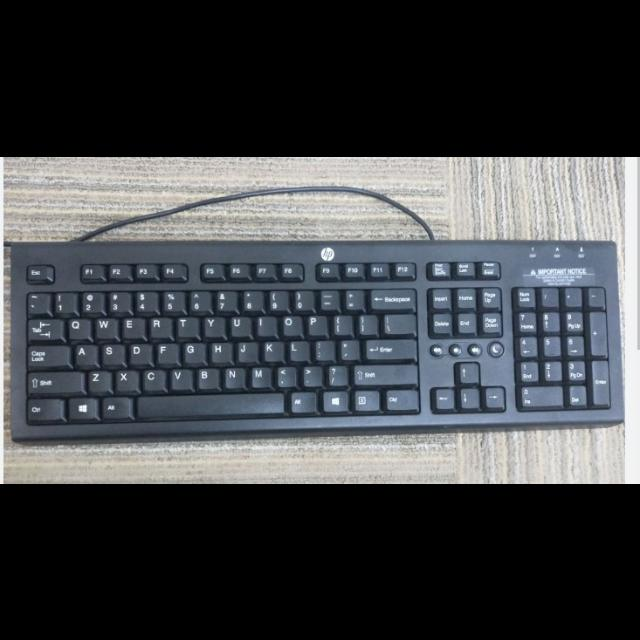Computer-Keyboard: (8, 236, 627, 445)
